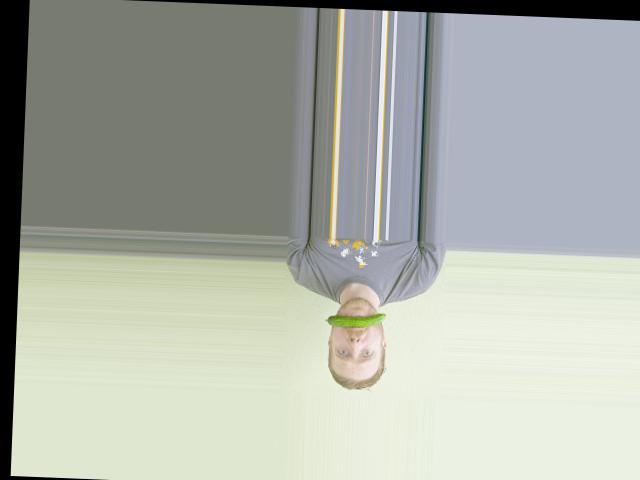cucumber: (324, 310, 387, 328)
